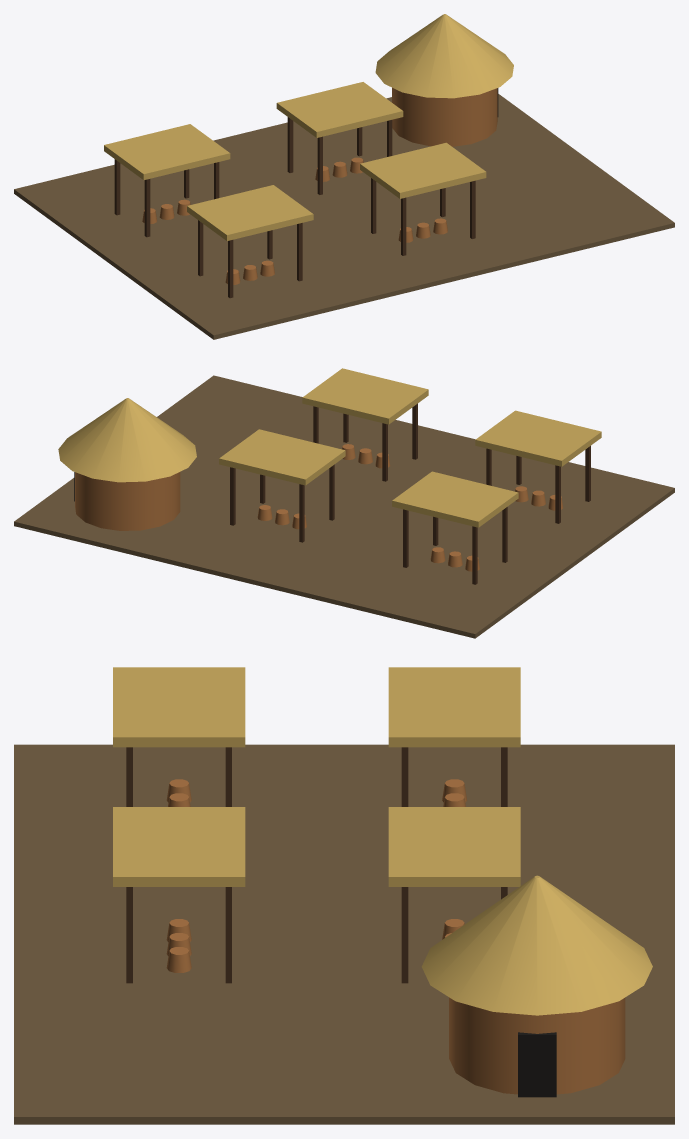
The model's file is market.glb.
3 renders of one model, top to bottom at view 1: azimuth 30°, elevation 25°; view 2: azimuth 150°, elevation 25°; view 3: azimuth 270°, elevation 25°, orthographic. The views are drawn at different scales.
Parts seen in each view (by area): view 1: Market; view 2: Market; view 3: Market.
Boxes of the visible parts, <box> form: Market: <box>14,14,674,339</box>; Market: <box>14,368,674,638</box>; Market: <box>14,667,674,1124</box>.
Bounding box in the file's own units: 16 × 3.8 × 12.
